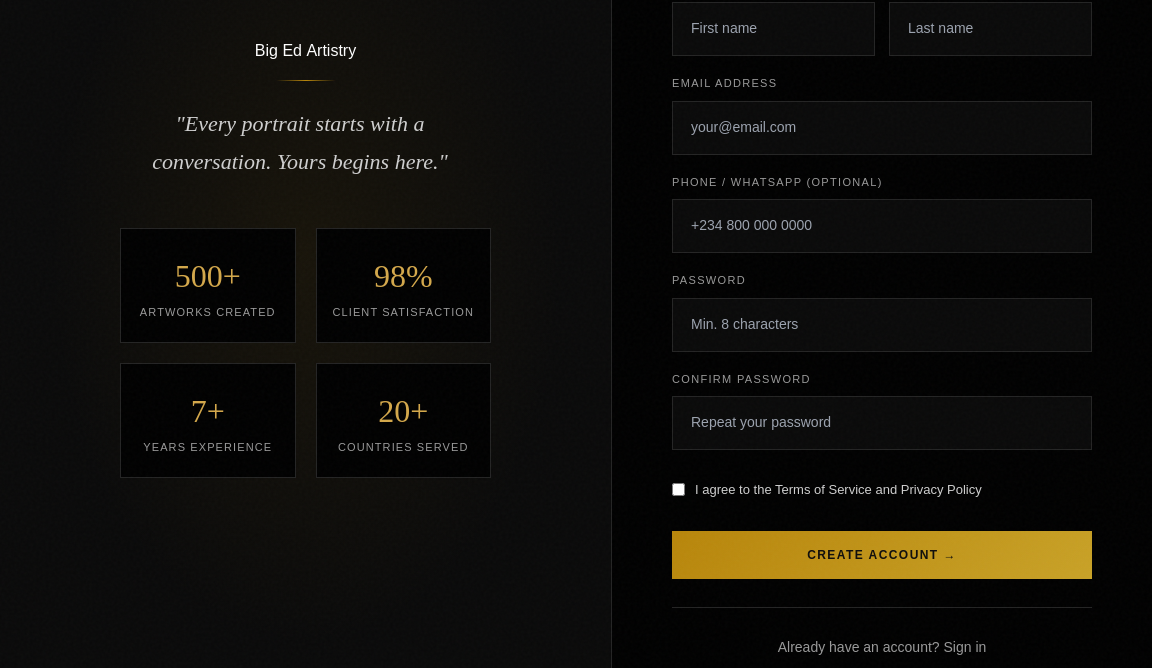
Test: RegisterPage › shows error when required fields are empty
(page scrolled)
Click the button "Create Account →" at (882, 555), box top-left (672, 531), bottom-right (1092, 579)
(page scrolled)
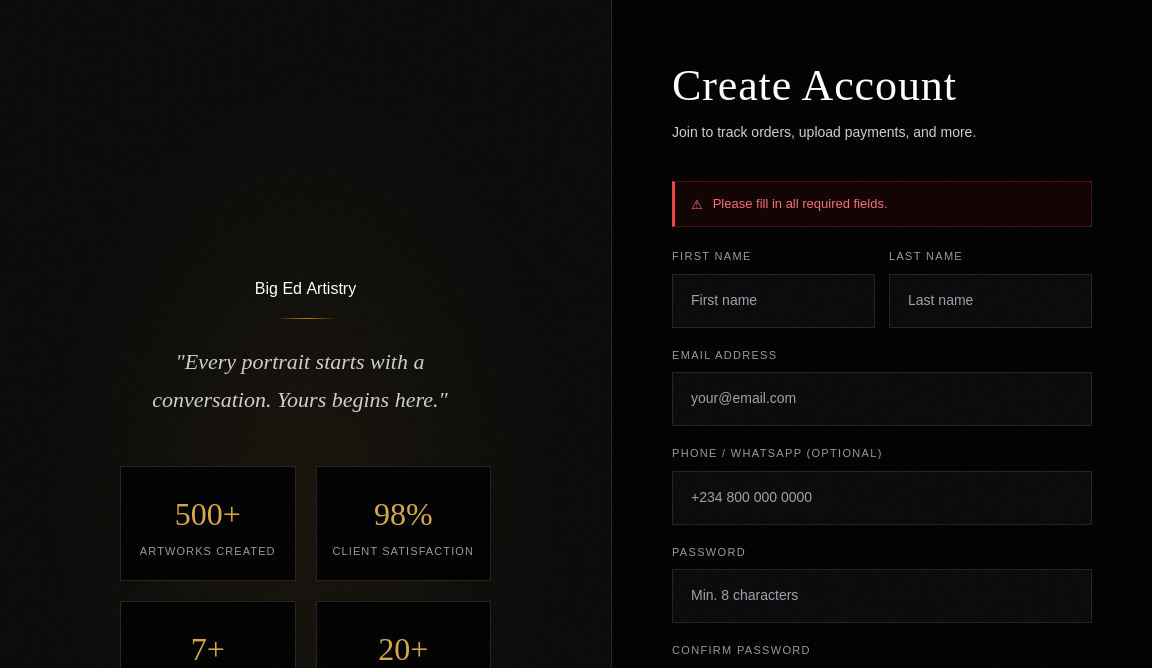
Expected: the text "Please fill in all required fields." is shown, top-left (713, 194), bottom-right (888, 213)
